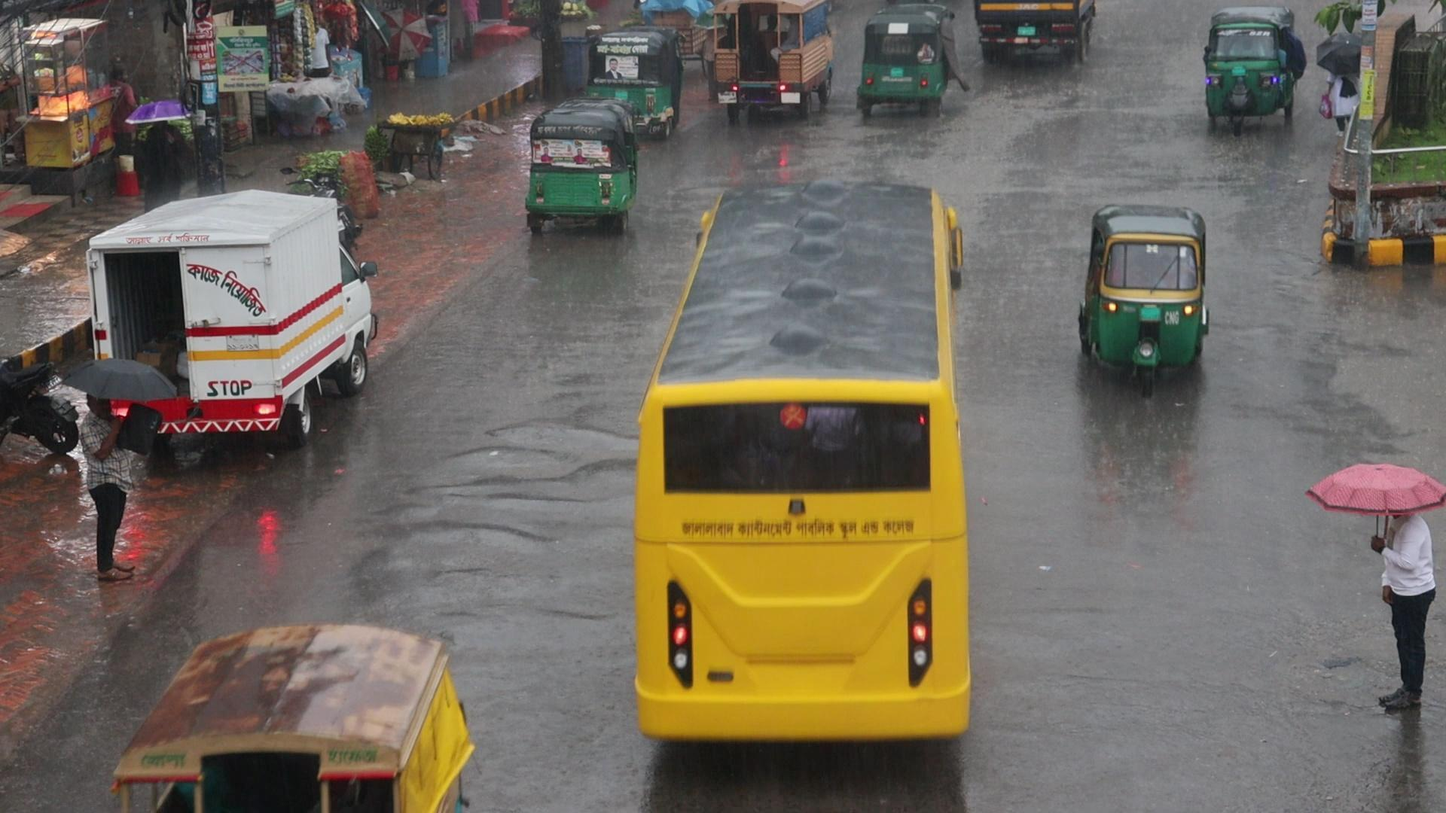Bus: (633, 170, 978, 781)
